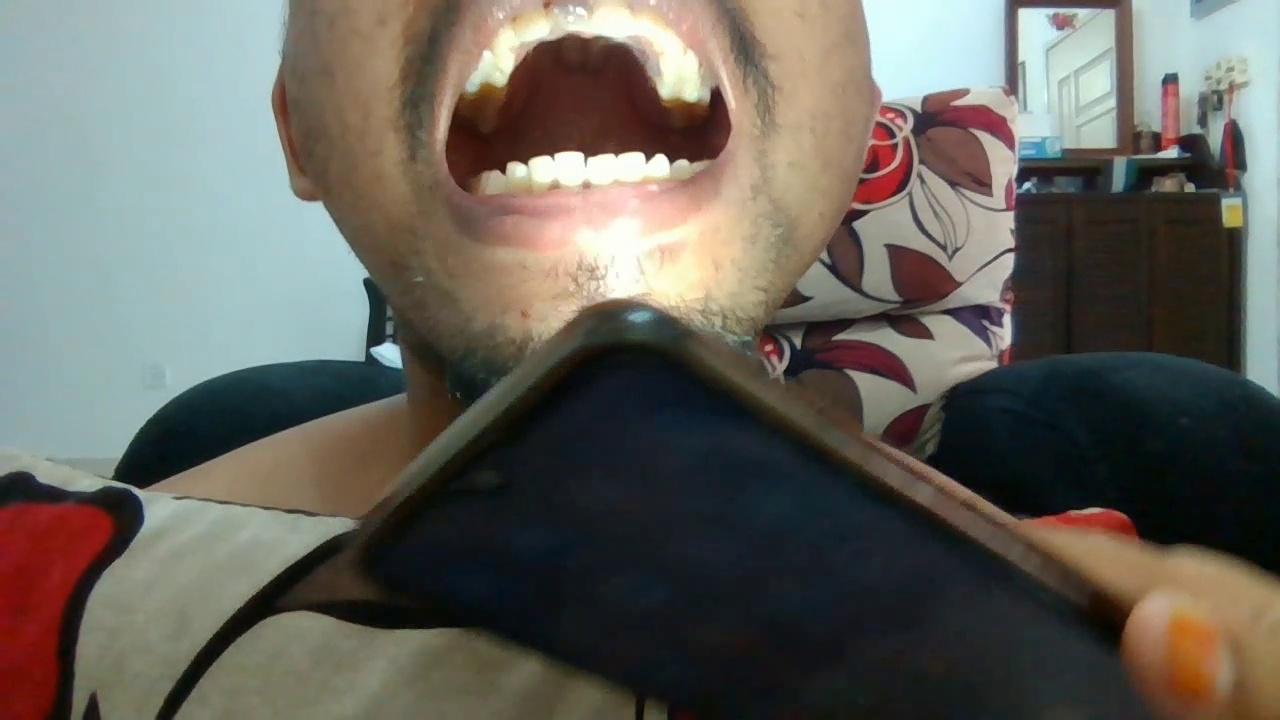1st Premolar: (485, 168, 507, 195), (670, 156, 693, 181)
Canine: (505, 161, 532, 193), (645, 151, 670, 182)
Central Incisor: (547, 1, 594, 31), (594, 1, 632, 36), (554, 150, 586, 189), (586, 152, 616, 186)
Lateral Incisor: (515, 9, 551, 40), (526, 154, 554, 188), (616, 151, 645, 183)
